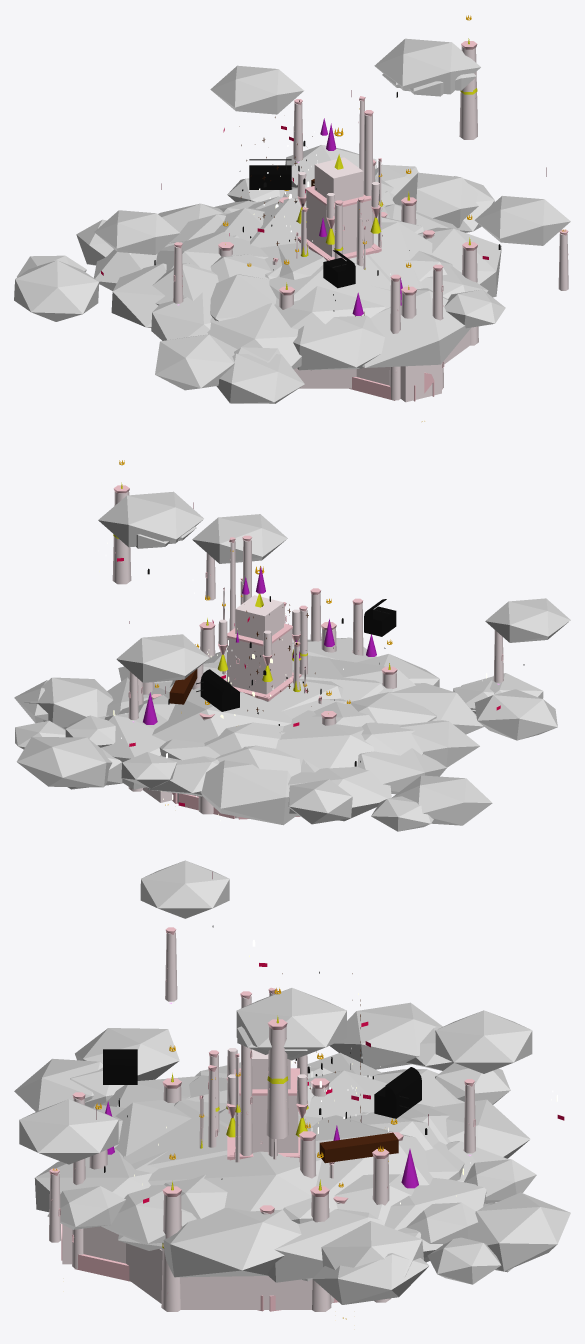
File: fairytale_castle_med_compressed.glb
3 renders of one model, top to bottom at view 1: azimuth 30°, elevation 25°; view 2: azimuth 150°, elevation 25°; view 3: azimuth 270°, elevation 25°, orthographic. The views are drawn at different scales.
Bounding box in the file's own units: 5571865 × 3600056 × 4756932.
